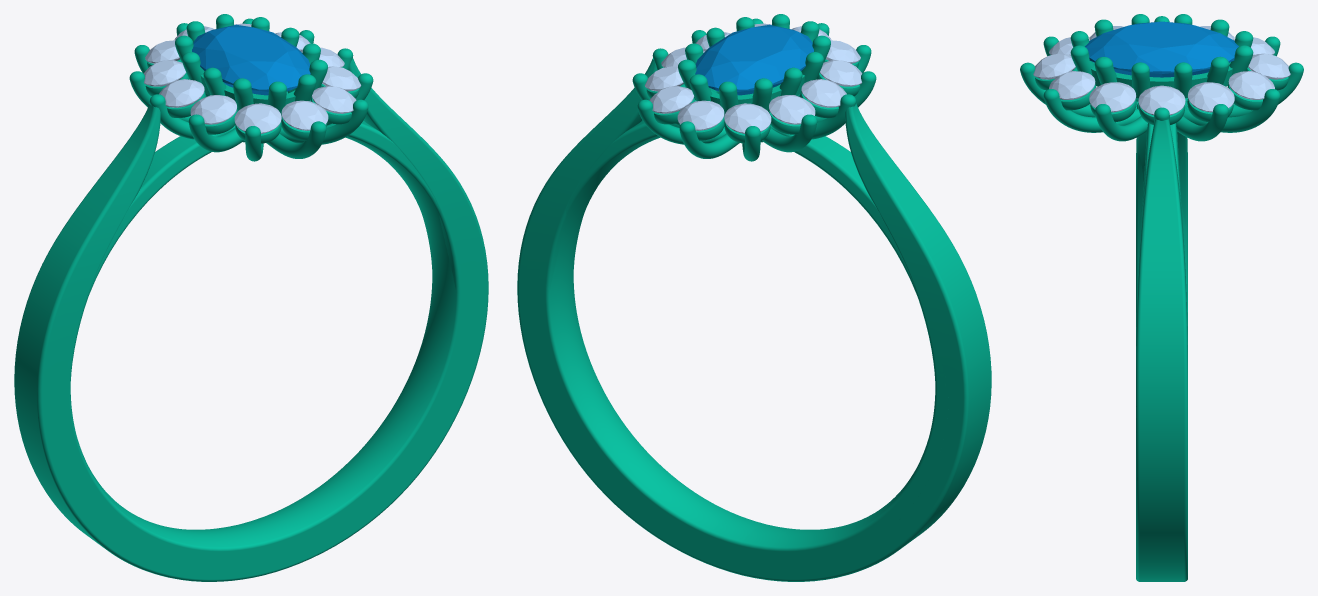
The picture shows the model from 3 angles, left to right: view 1: azimuth 30°, elevation 25°; view 2: azimuth 150°, elevation 25°; view 3: azimuth 270°, elevation 25°; orthographic projection.
Parts seen in each view (by area): view 1: Gemstone ring(RENDER).3dm, Diamond_Round (×7), Diamond_Oval; view 2: Gemstone ring(RENDER).3dm, Diamond_Round (×7), Diamond_Oval; view 3: Gemstone ring(RENDER).3dm, Diamond_Round (×7), Diamond_Oval, Bezel.
Part boxes in pixels (x1=…): Gemstone ring(RENDER).3dm: x1=14, y1=14, x2=488, y2=581; Diamond_Round (×7): x1=143, y1=60, x2=361, y2=133; Diamond_Oval: x1=192, y1=24, x2=310, y2=95; Gemstone ring(RENDER).3dm: x1=517, y1=14, x2=991, y2=581; Diamond_Round (×7): x1=644, y1=60, x2=862, y2=133; Diamond_Oval: x1=695, y1=24, x2=813, y2=95; Gemstone ring(RENDER).3dm: x1=1020, y1=14, x2=1303, y2=581; Diamond_Round (×7): x1=1033, y1=53, x2=1290, y2=115; Diamond_Oval: x1=1085, y1=21, x2=1238, y2=77; Bezel: x1=1091, y1=62, x2=1232, y2=87.
Bounding box in the file's own units: 2.52 × 2.79 × 1.37.
